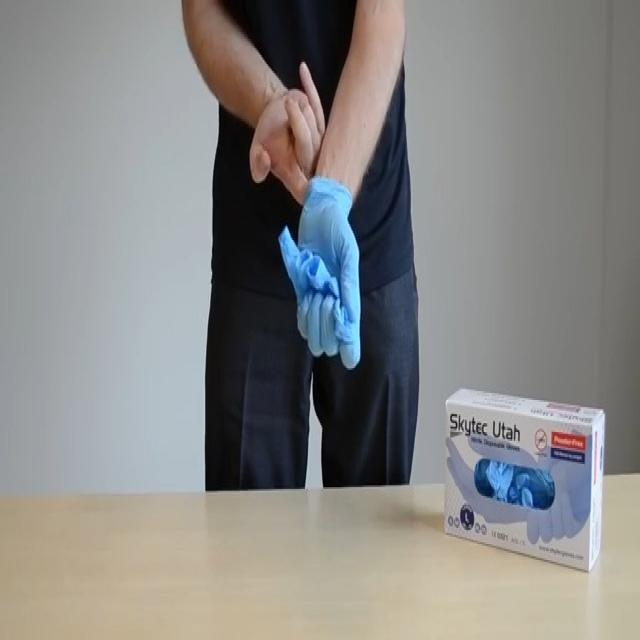Gloves: (287, 188, 369, 370)
